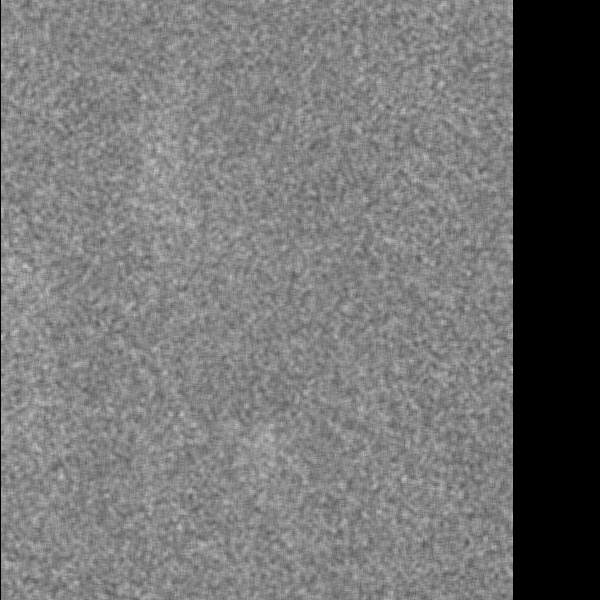spark: (254, 421, 280, 474)
